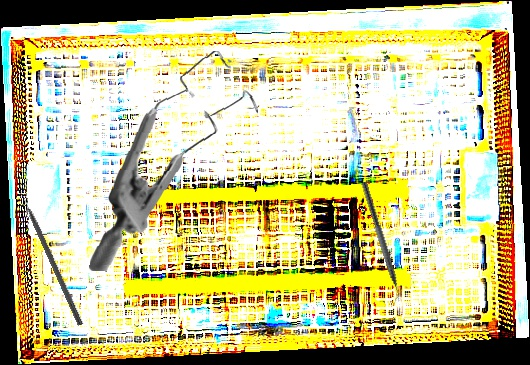Chopper: (353, 181, 406, 307)
Hook Surgical: (18, 188, 85, 327)
Speculum: (89, 44, 261, 280)
